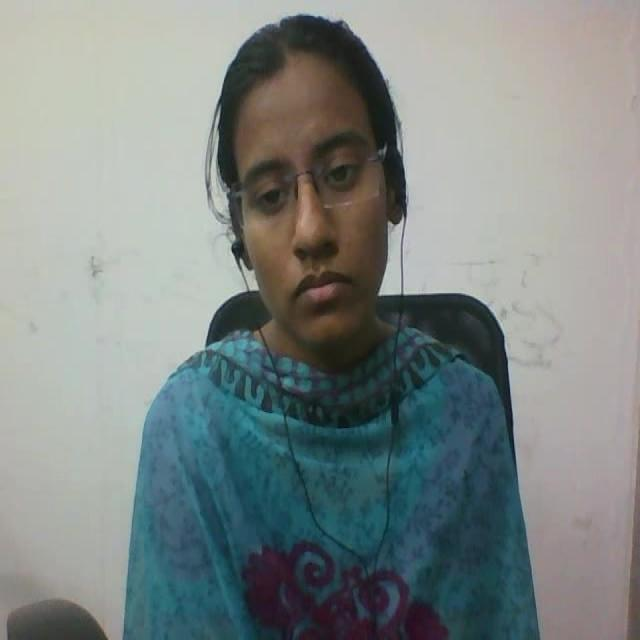Engaged: (174, 2, 438, 381)
